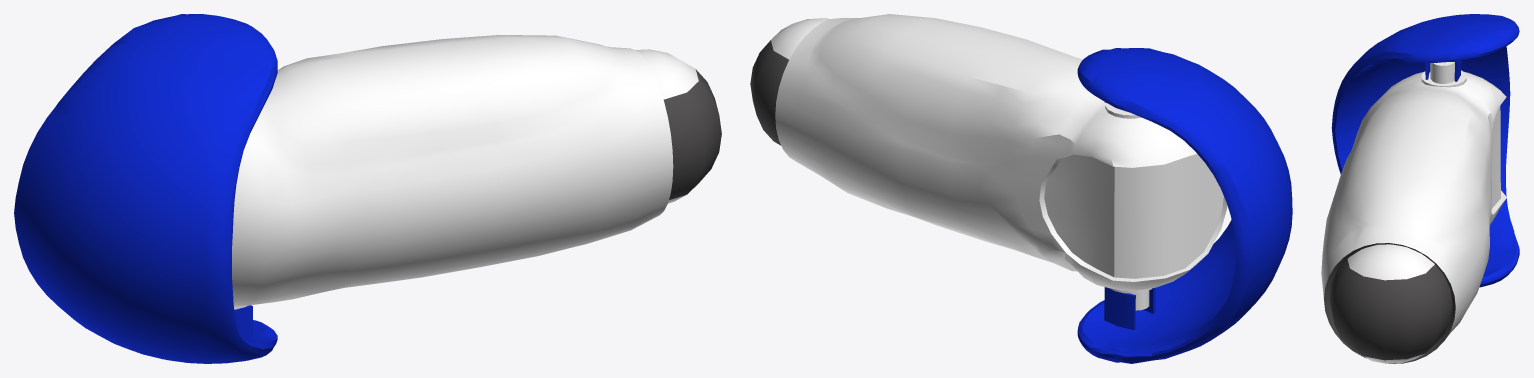
The model's file is RShoulderRoll.dae.
3 views of the same model, side by side, from view 1: azimuth 30°, elevation 25°; view 2: azimuth 150°, elevation 25°; view 3: azimuth 270°, elevation 25° (orthographic). The views are drawn at different scales.
Parts seen in each view (by area): view 1: RShoulderRoll; view 2: RShoulderRoll; view 3: RShoulderRoll.
Part boxes in pixels (x1,y1,x2,y2): RShoulderRoll: (14,14,721,363); RShoulderRoll: (750,14,1292,363); RShoulderRoll: (1321,14,1519,363).
Size of the model in its own units: 1.7 by 0.5942 by 0.8169.
1 material, 1 textured.
